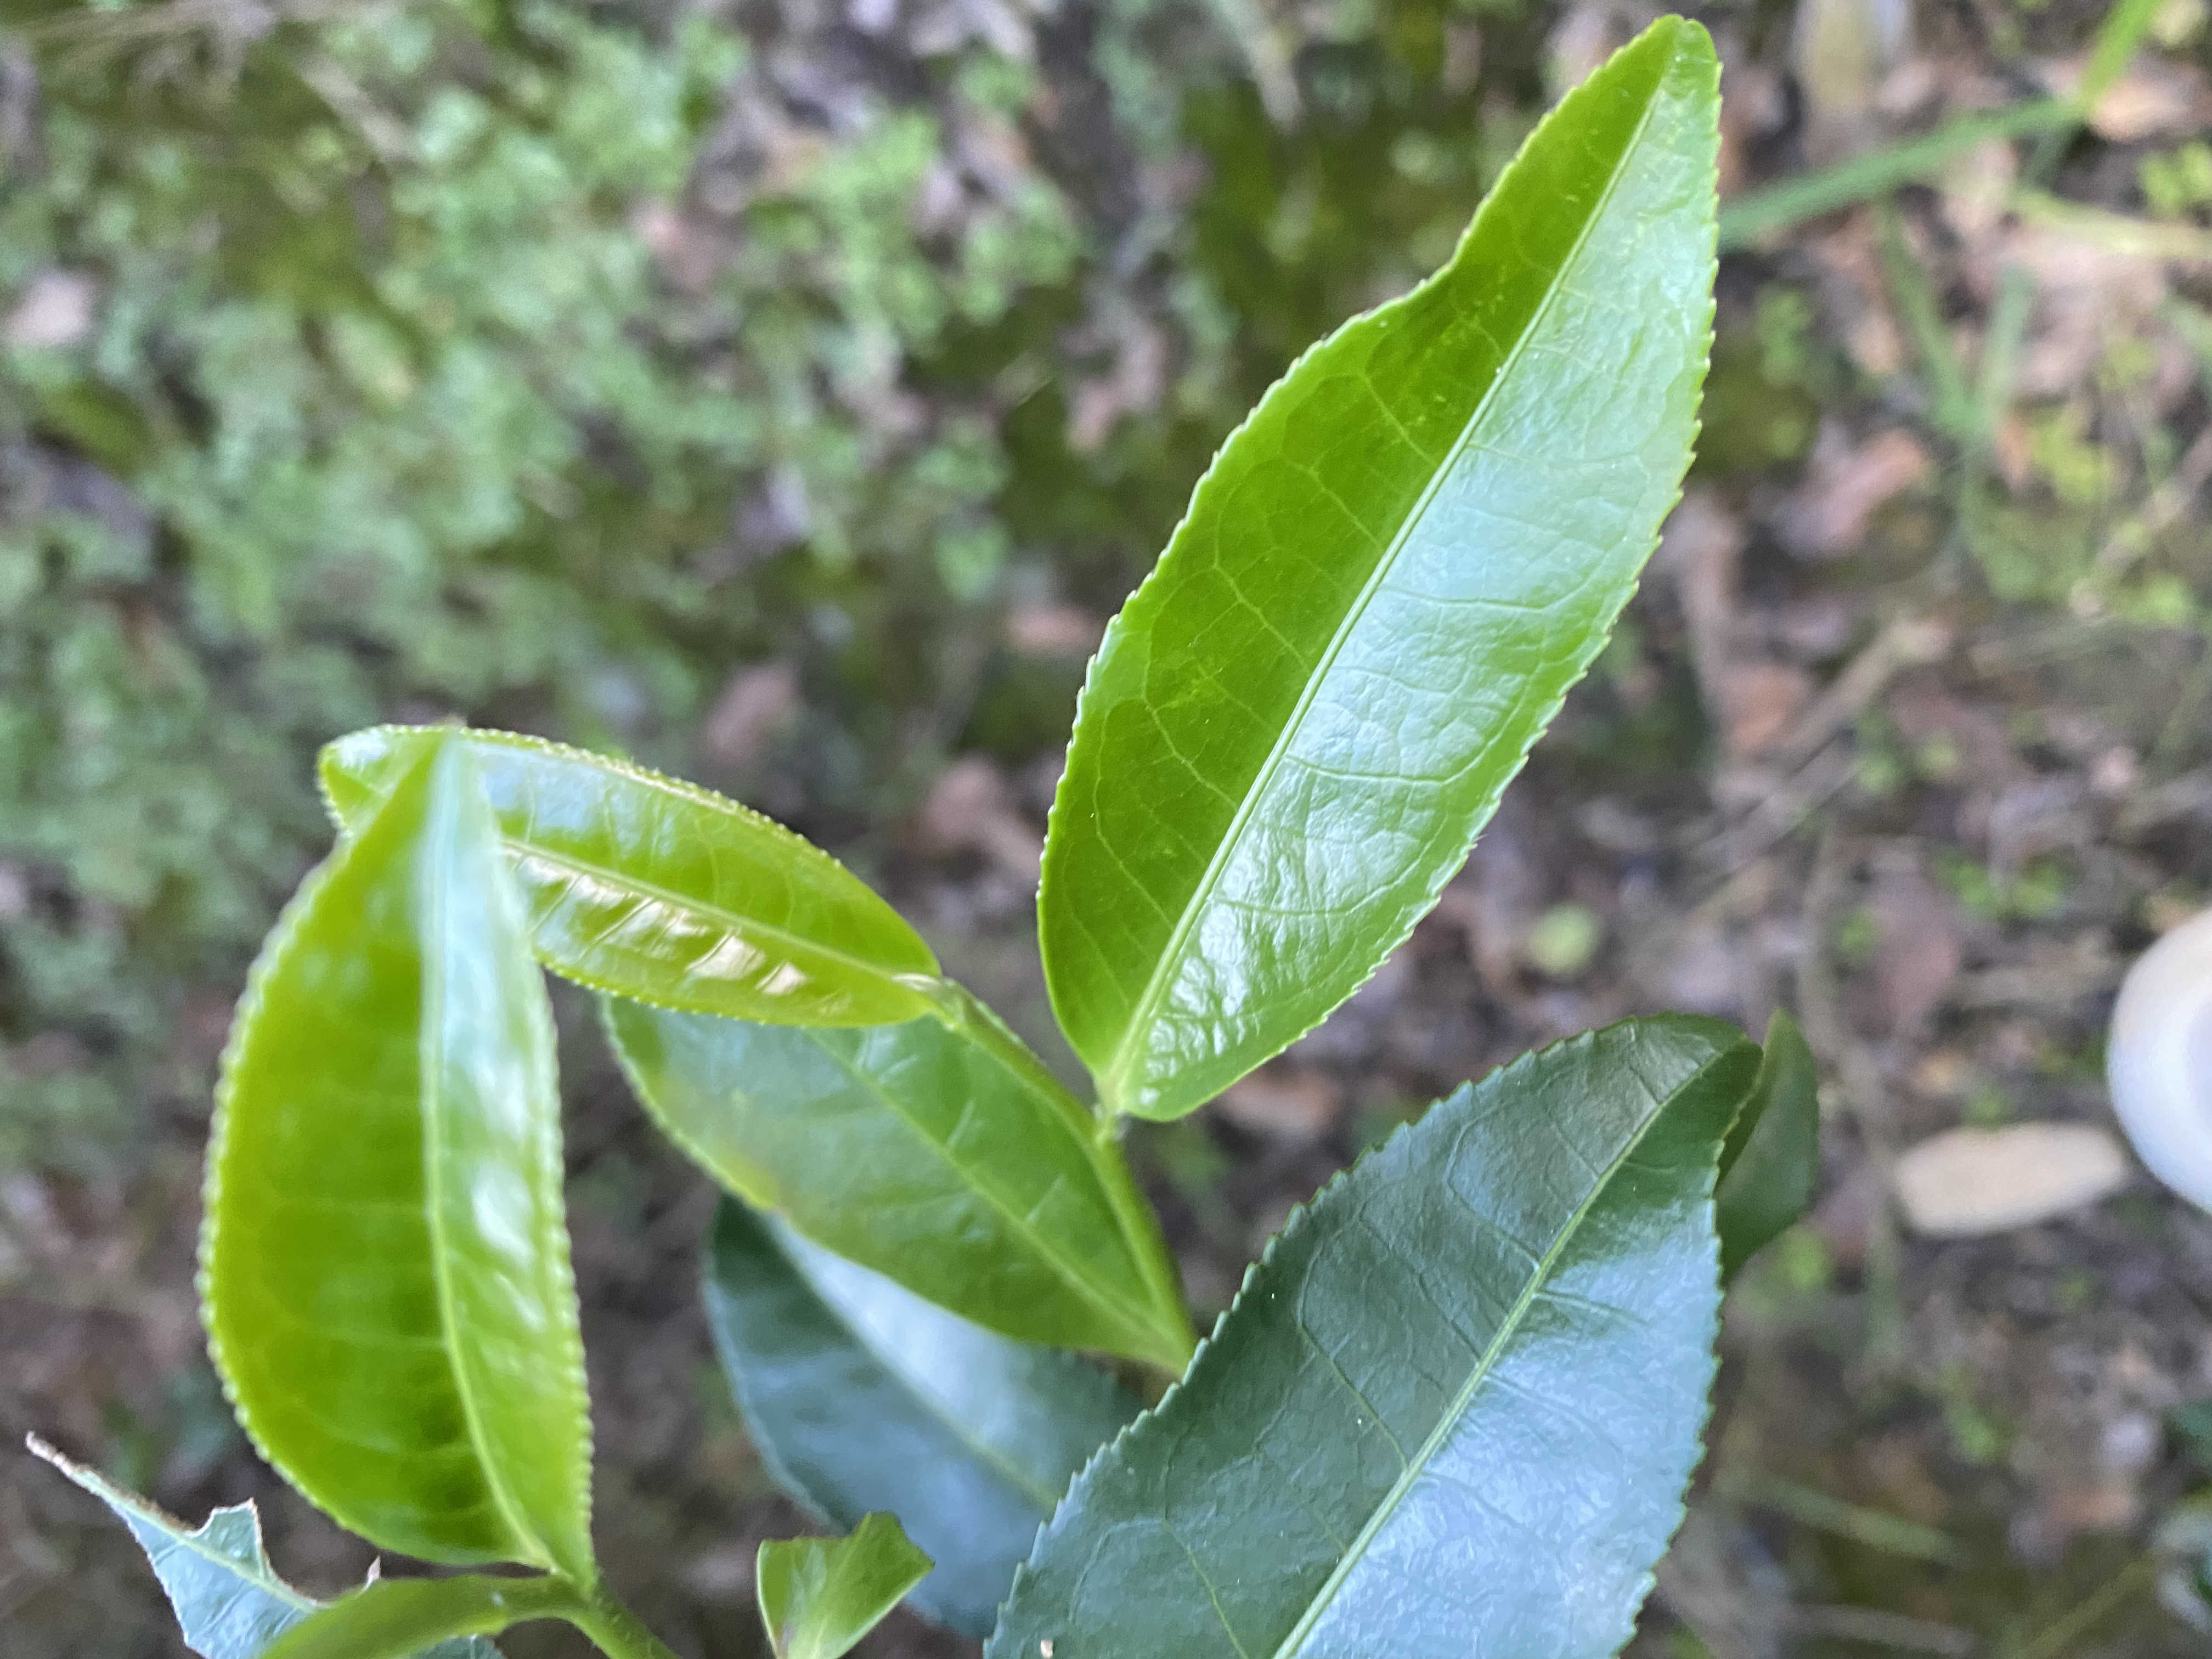chihuo_high: (23, 1429, 503, 1659), (752, 1506, 932, 1656)
healthy: (1035, 14, 1724, 1124), (982, 1009, 1770, 1657), (190, 716, 596, 1575), (308, 723, 942, 1033)
